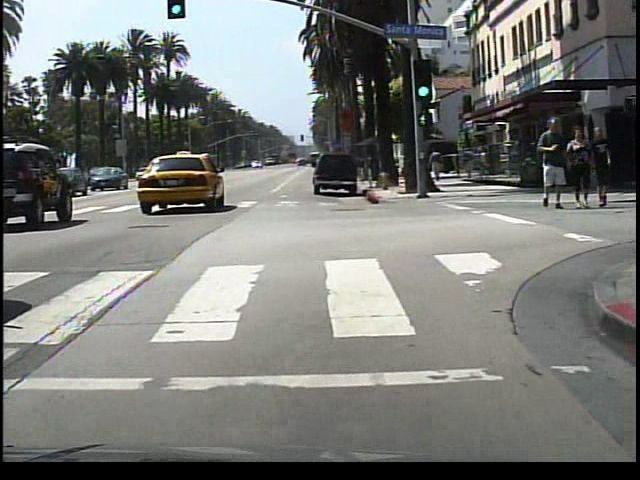person: (534, 113, 567, 215), (564, 126, 595, 214), (587, 124, 614, 210), (424, 144, 446, 185)
